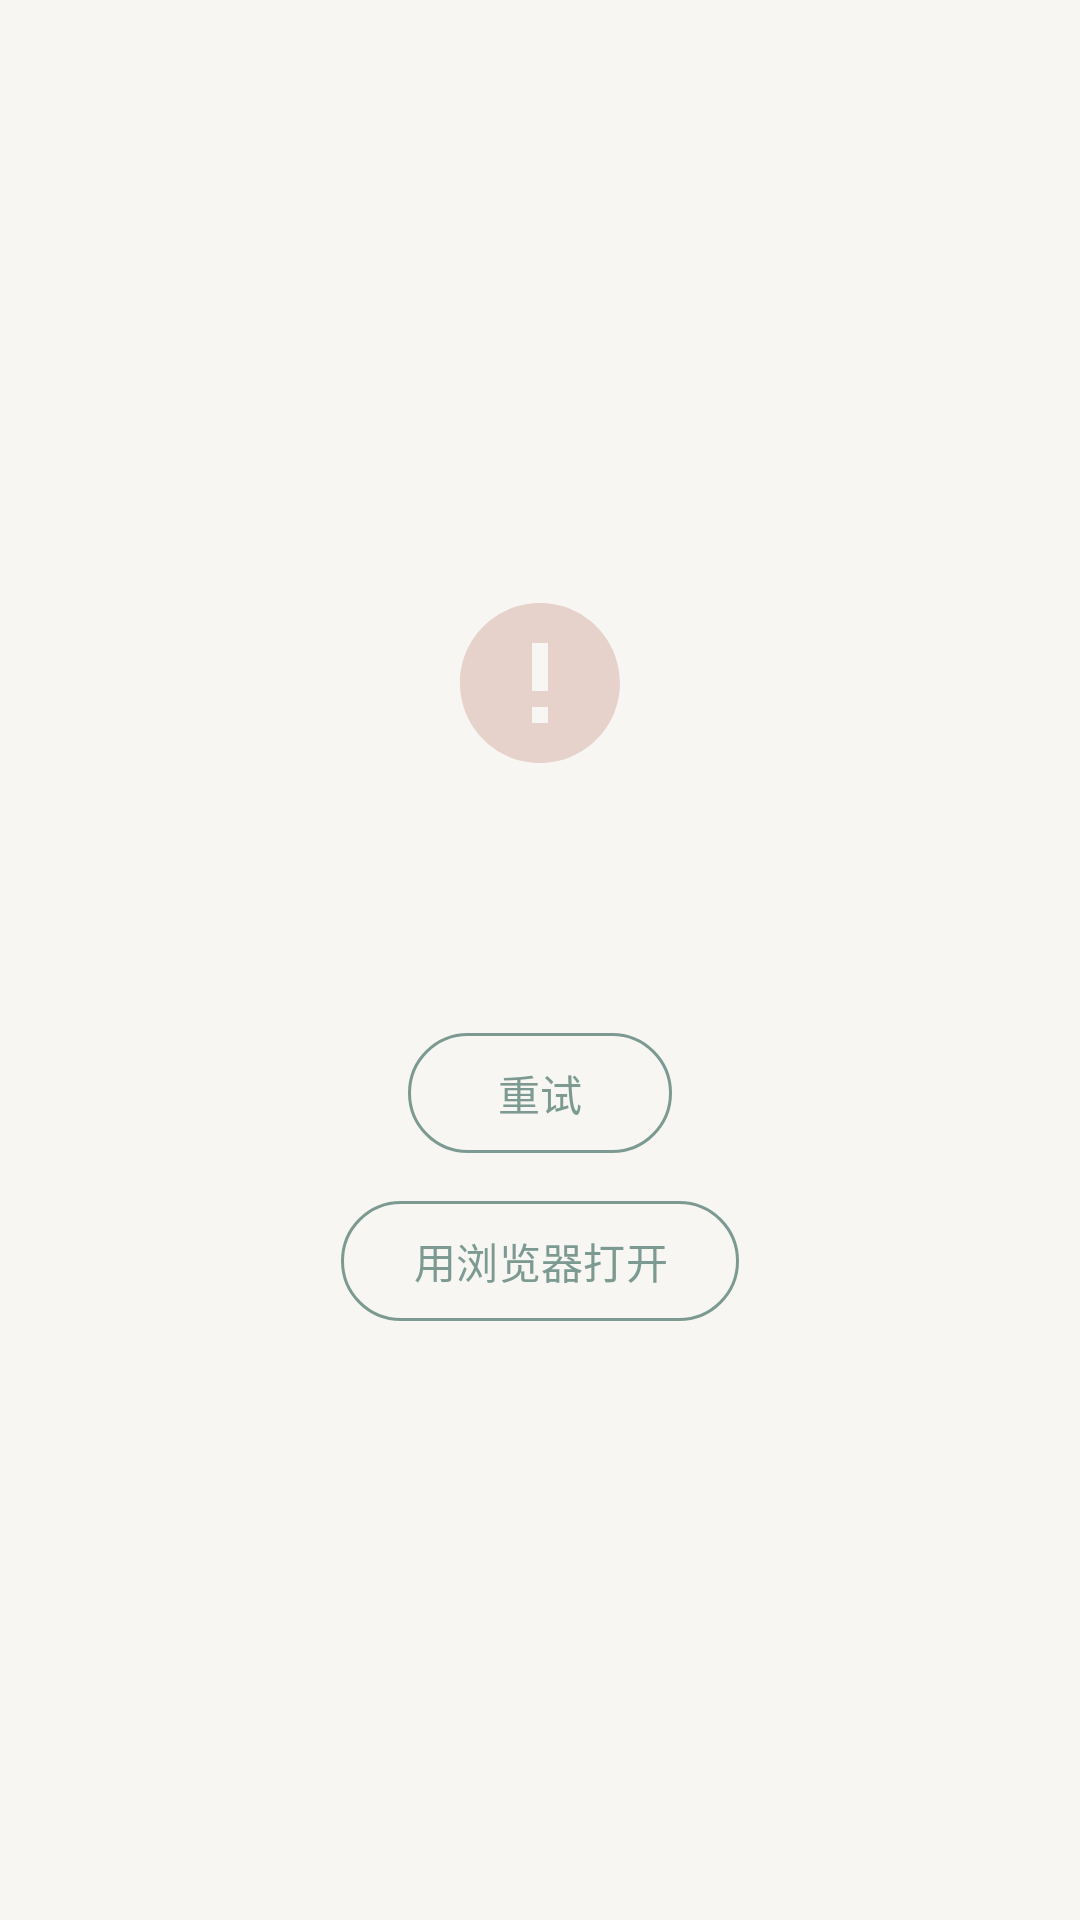

Icon bounding boxes for this 1080w x 1920h phone screenshot, format (x1, y1, x2, y2):
error: (460, 603, 620, 763)
